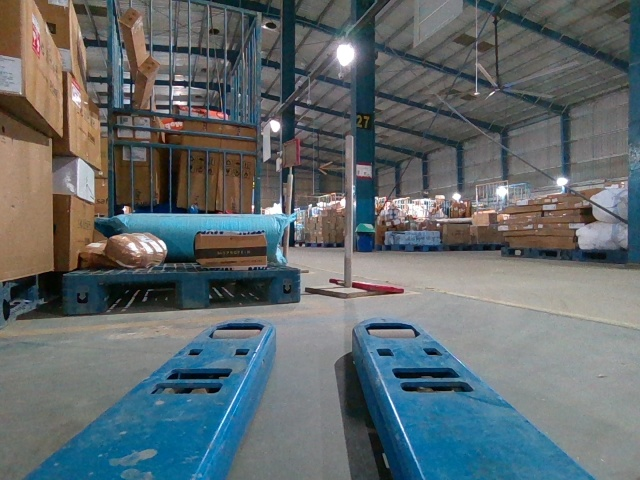pallet: (63, 269, 300, 313)
